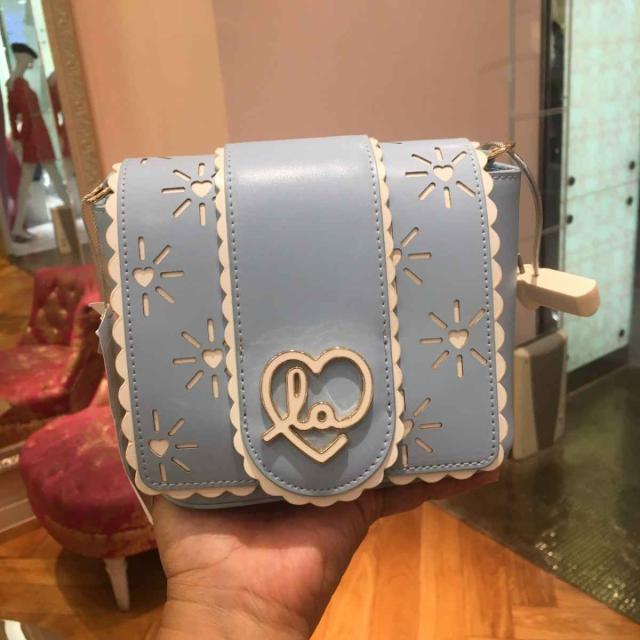Handbag: (84, 140, 550, 514)
